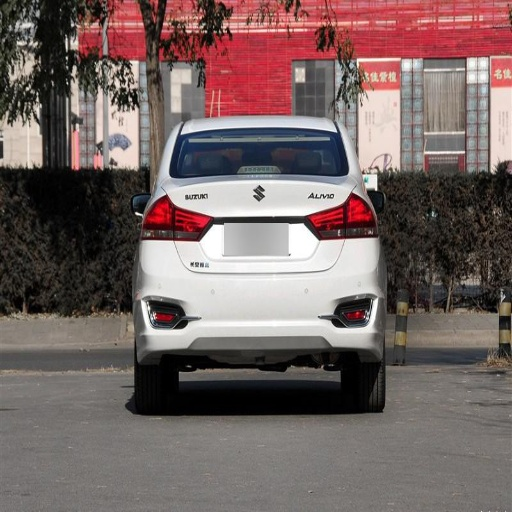back_bumper: (135, 238, 388, 360)
tailgate: (248, 175, 353, 268)
trunk: (155, 180, 361, 274)
